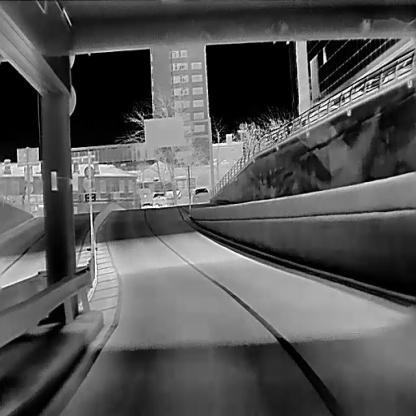car: (190, 184, 209, 202), (150, 192, 168, 208), (139, 202, 152, 208)
